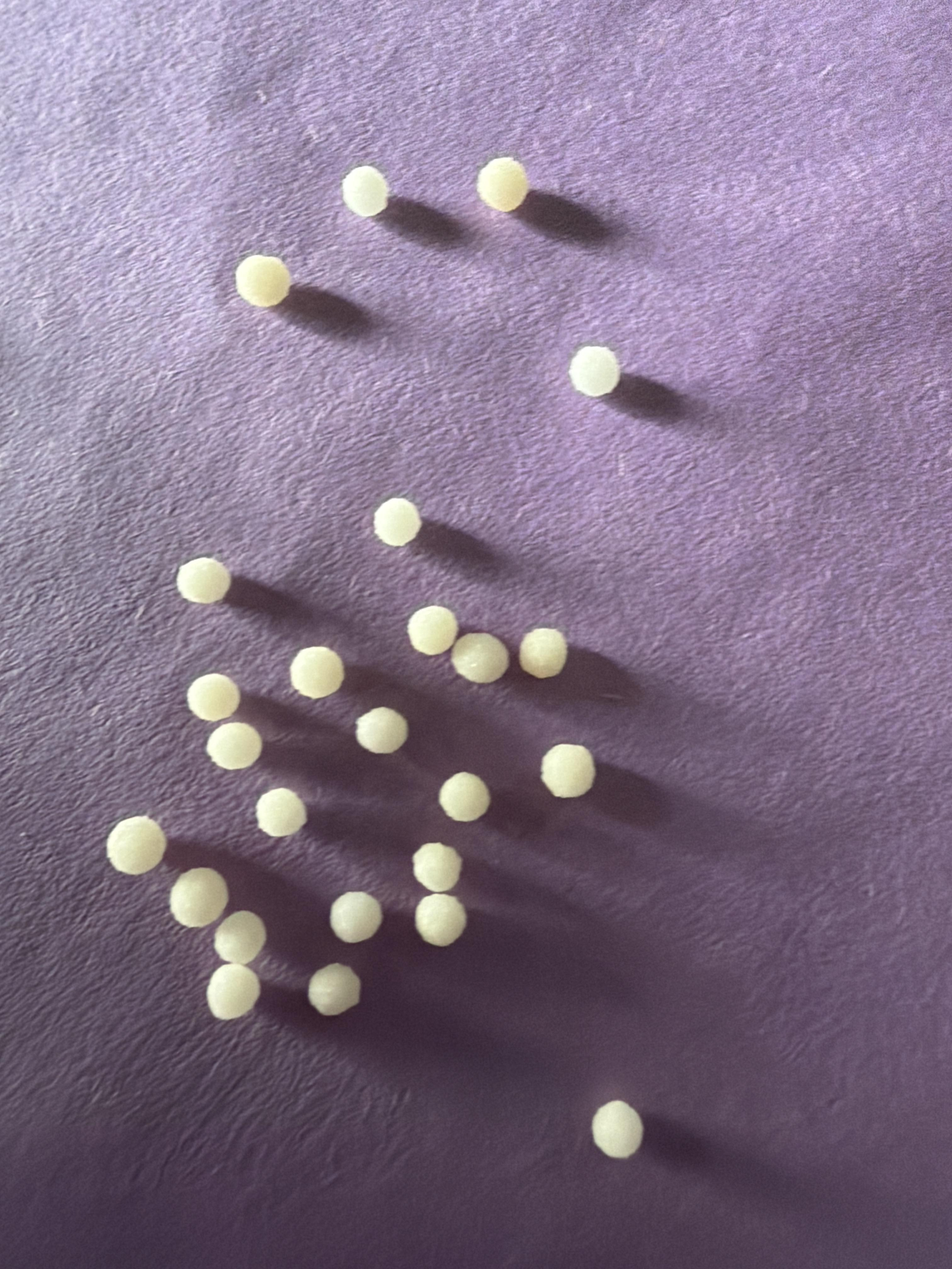pill: (107, 816, 166, 875), (170, 867, 228, 927), (207, 963, 259, 1020), (592, 1100, 643, 1158), (451, 633, 509, 683), (290, 646, 344, 699), (477, 157, 529, 212), (235, 255, 290, 307), (541, 745, 594, 798), (214, 911, 266, 964), (308, 964, 360, 1016), (415, 894, 466, 946), (330, 892, 382, 943), (569, 346, 620, 397), (438, 772, 490, 822), (207, 723, 262, 770), (176, 557, 231, 604), (187, 673, 240, 721), (256, 788, 307, 837), (407, 606, 458, 655), (341, 165, 389, 217), (413, 842, 462, 892), (519, 628, 567, 679), (373, 498, 422, 547), (356, 707, 408, 753)
